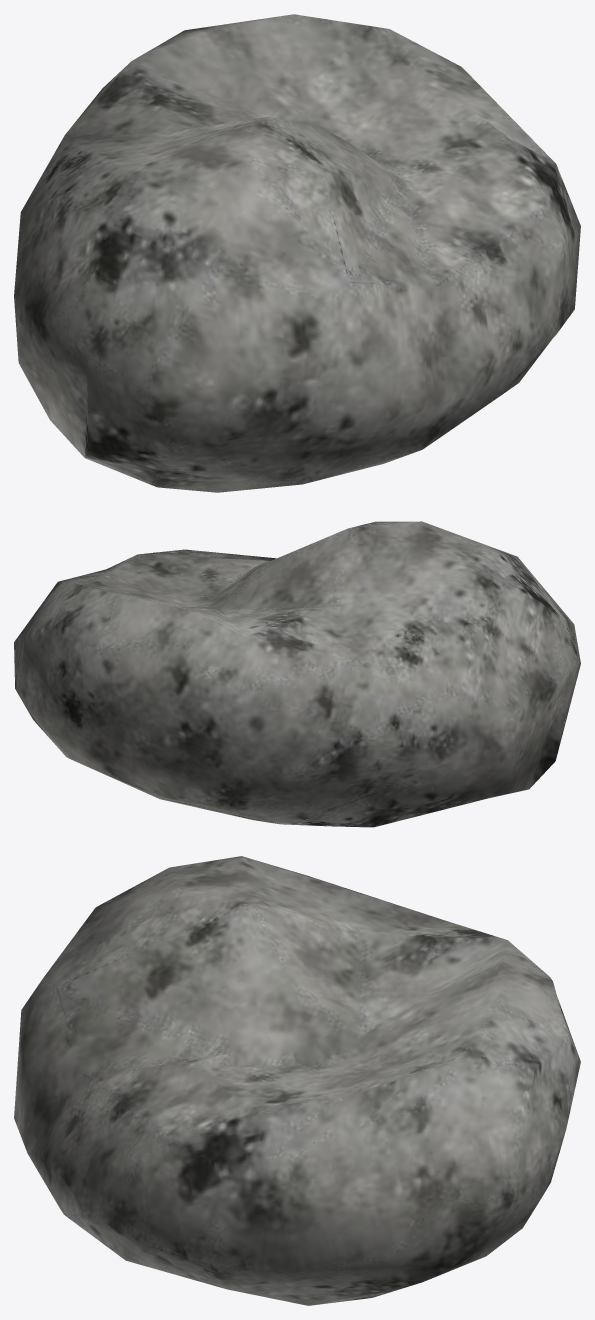
The model's file is Marble1_LOD0.FBX.
3 renders of one model, top to bottom at view 1: azimuth 30°, elevation 25°; view 2: azimuth 150°, elevation 25°; view 3: azimuth 270°, elevation 25°, orthographic. The views are drawn at different scales.
Parts seen in each view (by area): view 1: Marble1; view 2: Marble1; view 3: Marble1.
Boxes of the visible parts, x1,y1,x2,y2 form: Marble1: (14, 14, 580, 492); Marble1: (14, 521, 580, 827); Marble1: (14, 856, 580, 1305).
Size of the model in its own units: 28.39 by 16.46 by 25.68.
1 material, 1 textured.
